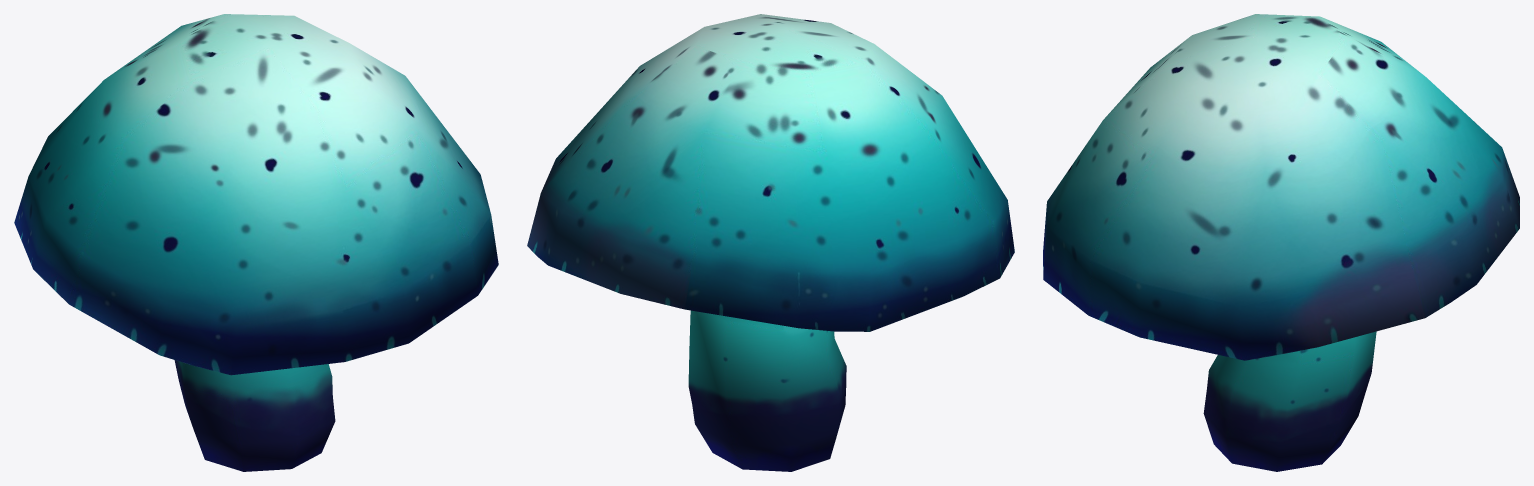
File: BlueMushroom_Giant.fbx
The picture shows the model from 3 angles, left to right: view 1: azimuth 30°, elevation 25°; view 2: azimuth 150°, elevation 25°; view 3: azimuth 270°, elevation 25°; orthographic projection.
Visible parts, largest first — view 1: BlueMushroom/Giant; view 2: BlueMushroom/Giant; view 3: BlueMushroom/Giant.
Part boxes in pixels (left/top/right/bottom): BlueMushroom/Giant: left=14, top=14, right=498, bottom=471; BlueMushroom/Giant: left=527, top=14, right=1014, bottom=471; BlueMushroom/Giant: left=1043, top=14, right=1519, bottom=471.
Bounding box in the file's own units: 874 × 814 × 865.
